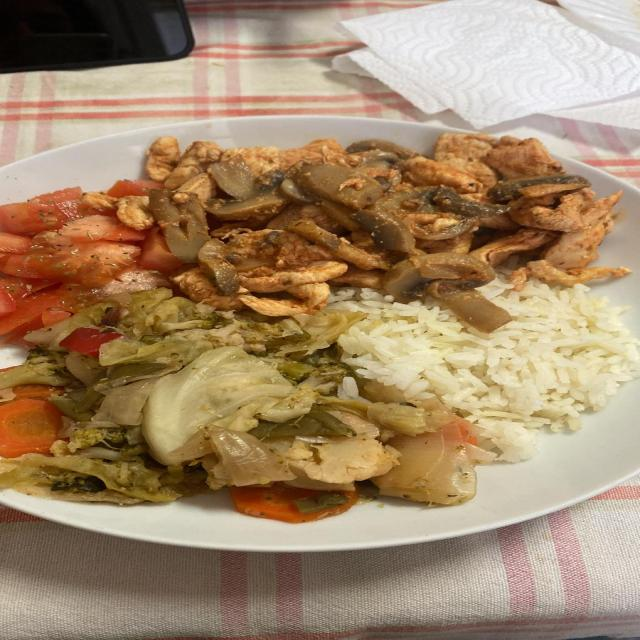chicken steak: (117, 134, 628, 331)
mushrooms: (148, 160, 508, 330), (490, 174, 589, 200)
plate: (0, 116, 639, 551)
rice: (329, 284, 639, 462)
tomato: (0, 180, 181, 350), (0, 384, 64, 458), (60, 329, 119, 359)
vegetables: (0, 289, 494, 505), (230, 483, 359, 524)
